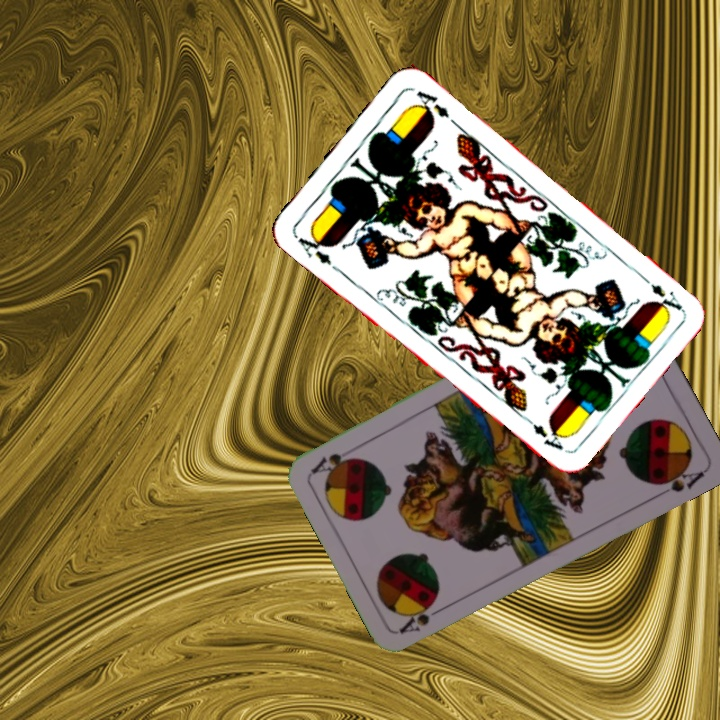EA: (635, 269, 685, 318), (291, 228, 335, 268)
SA: (395, 597, 450, 636)
